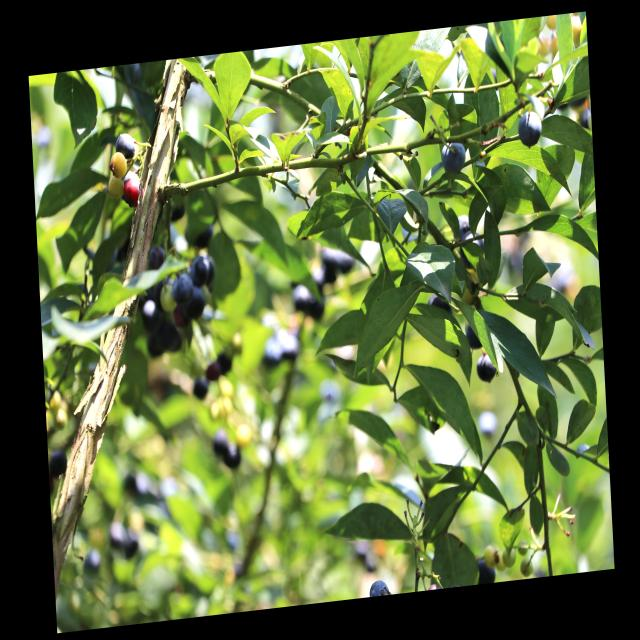blueberry: (440, 136, 470, 175), (473, 349, 502, 388), (516, 110, 544, 150), (460, 226, 486, 266), (140, 296, 167, 332), (468, 555, 499, 585), (461, 314, 486, 349), (189, 255, 214, 288), (170, 271, 194, 305), (424, 290, 452, 318), (114, 131, 136, 161), (187, 284, 206, 318), (368, 577, 390, 597)
blueberry-halfripe: (123, 178, 143, 208)
blueberry-unripe: (106, 173, 125, 200), (109, 150, 127, 178)
